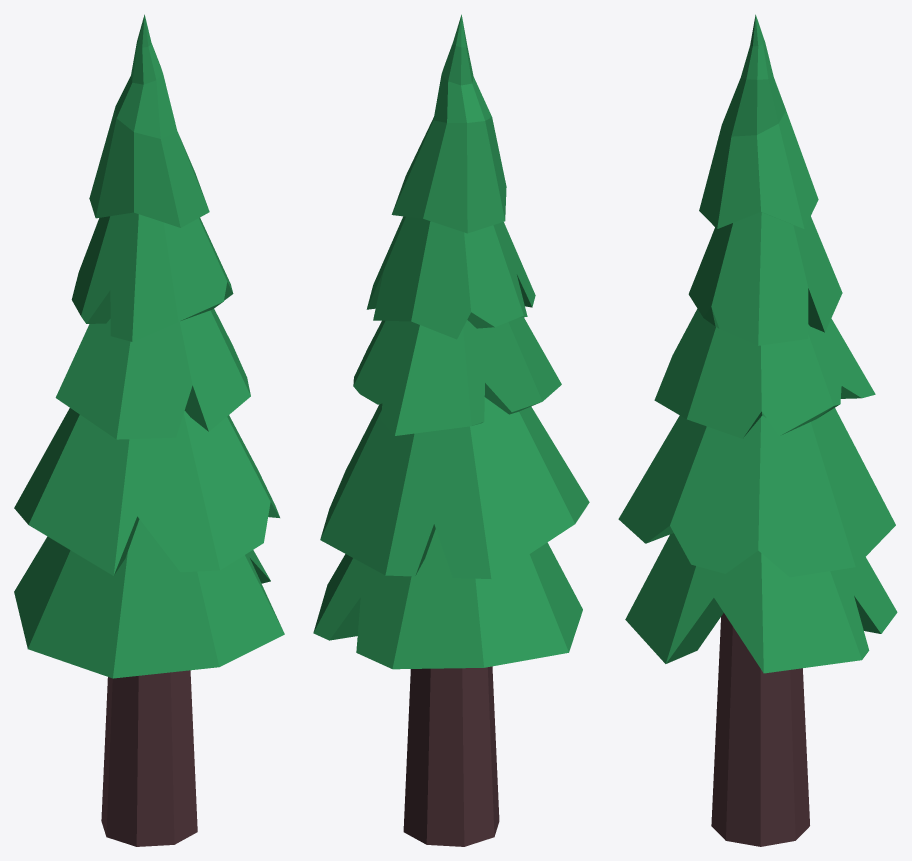
File: woodland_spruce_1.gltf
3 renders of one model, left to right at view 1: azimuth 30°, elevation 25°; view 2: azimuth 150°, elevation 25°; view 3: azimuth 270°, elevation 25°, orthographic.
Parts seen in each view (by area): view 1: Cone.001, Cone, Cone.002, Cylinder, Cone.003, Cone.004; view 2: Cone.001, Cone, Cone.002, Cylinder, Cone.003, Cone.004; view 3: Cone.001, Cone, Cylinder, Cone.002, Cone.003, Cone.004.
Boxes of the visible parts, x1=… form: Cone.001: x1=14, y1=408, x2=279, y2=575; Cone: x1=14, y1=519, x2=284, y2=678; Cone.002: x1=55, y1=309, x2=250, y2=439; Cylinder: x1=101, y1=670, x2=197, y2=846; Cone.003: x1=71, y1=212, x2=233, y2=341; Cone.004: x1=89, y1=14, x2=209, y2=227; Cone.001: x1=320, y1=397, x2=589, y2=578; Cone: x1=313, y1=529, x2=582, y2=669; Cone.002: x1=353, y1=317, x2=561, y2=435; Cylinder: x1=403, y1=666, x2=499, y2=846; Cone.003: x1=366, y1=216, x2=535, y2=339; Cone.004: x1=391, y1=14, x2=506, y2=233; Cone.001: x1=618, y1=408, x2=895, y2=577; Cone: x1=625, y1=533, x2=897, y2=673; Cylinder: x1=711, y1=613, x2=809, y2=846; Cone.002: x1=654, y1=309, x2=875, y2=438; Cone.003: x1=688, y1=212, x2=842, y2=345; Cone.004: x1=699, y1=14, x2=818, y2=228.
Bounding box in the file's own units: 2.02 × 6.42 × 2.01.
